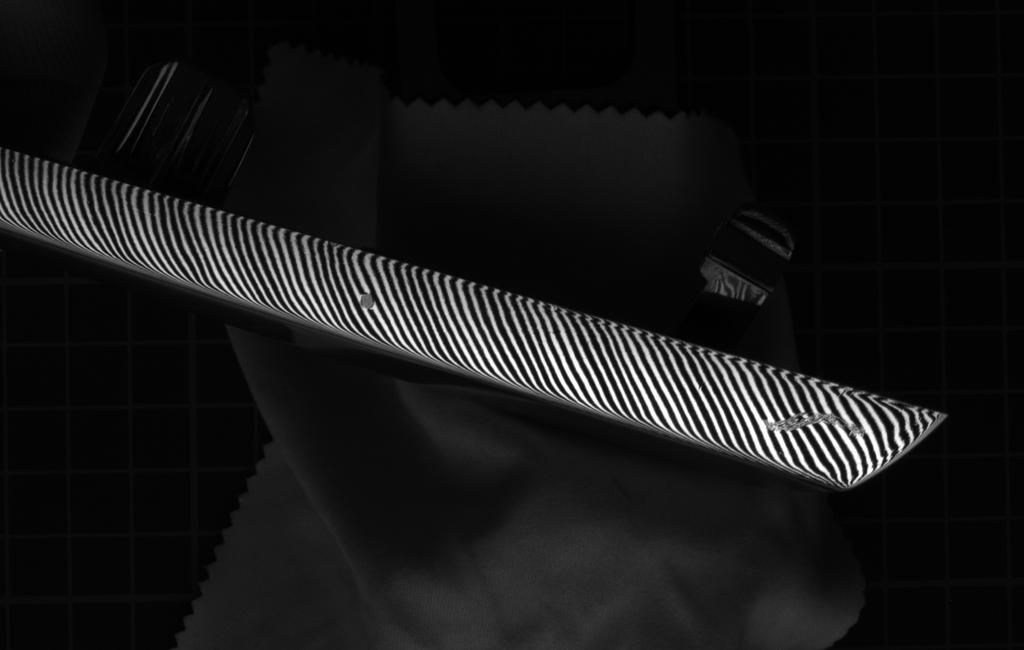Pierced: (352, 287, 381, 314)
Scratch: (762, 404, 874, 443)
